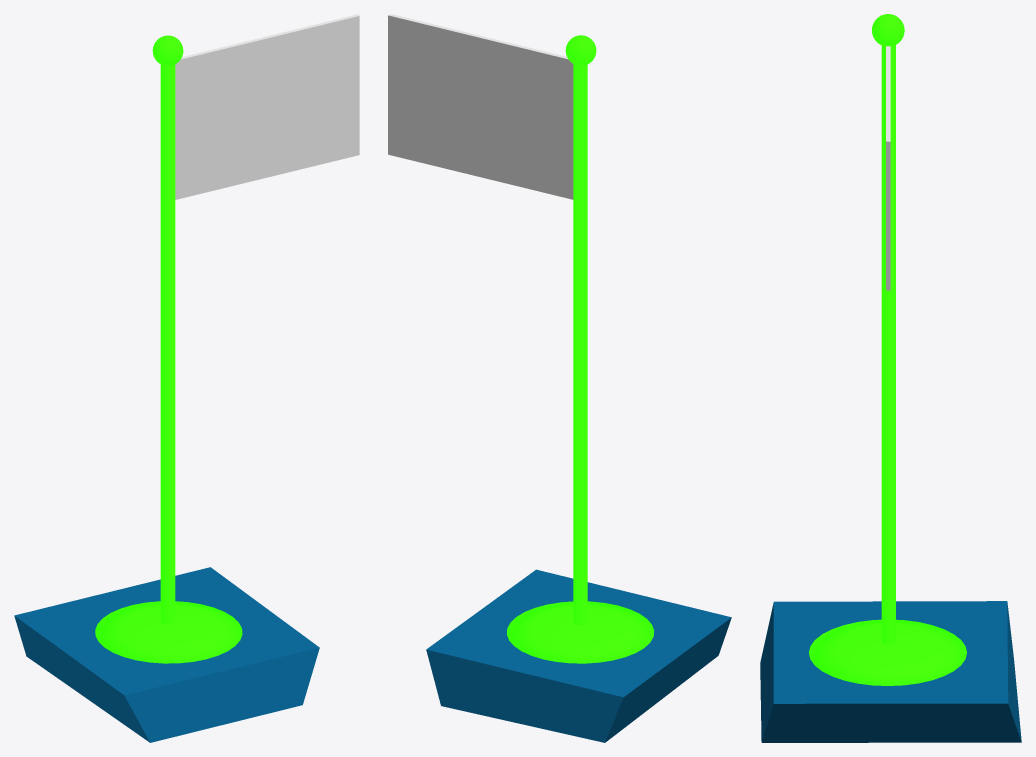
The model's file is flagunrigged.fbx.
3 views of the same model, side by side, from view 1: azimuth 30°, elevation 25°; view 2: azimuth 150°, elevation 25°; view 3: azimuth 270°, elevation 25° (orthographic). The views are drawn at different scales.
Parts seen in each view (by area): view 1: Cylinder.001; view 2: Cylinder.001; view 3: Cylinder.001.
Boxes of the visible parts, x1,y1,x2,y2 form: Cylinder.001: (14, 14, 359, 742); Cylinder.001: (388, 14, 731, 742); Cylinder.001: (760, 14, 1021, 742).
Size of the model in its own units: 436 by 925 by 319.
